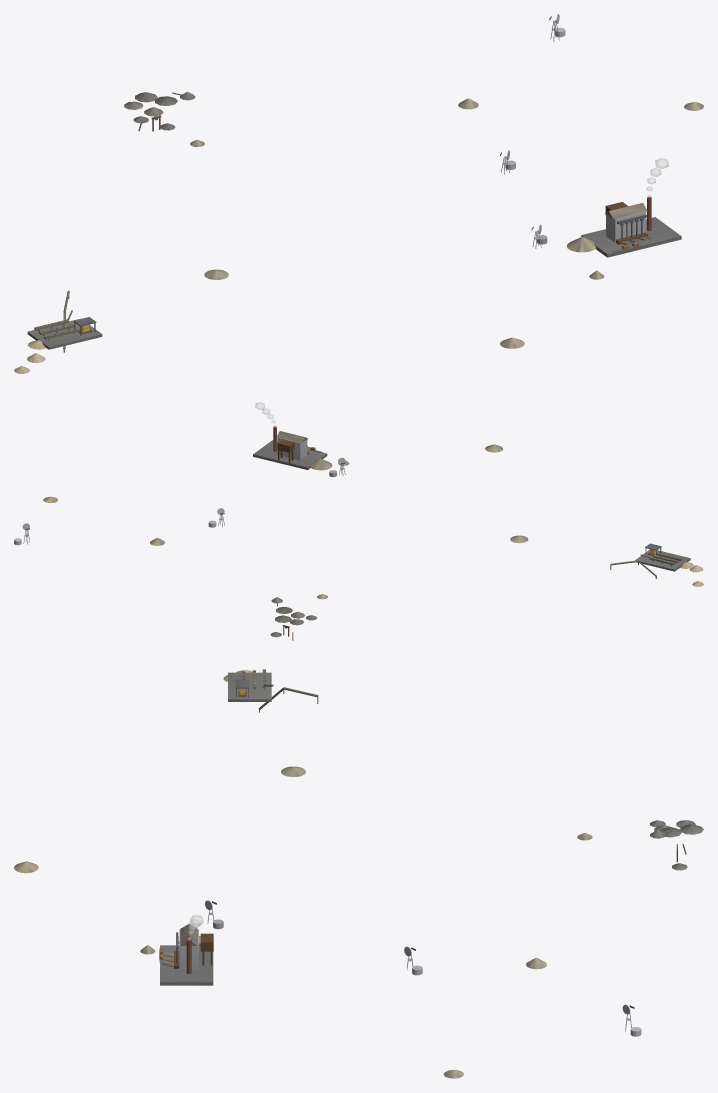
Rendered from Theme_P2.fbx.
3 views of the same model, one above another, from view 1: azimuth 30°, elevation 25°; view 2: azimuth 150°, elevation 25°; view 3: azimuth 270°, elevation 25° (orthographic). The views are drawn at different scales.
Visible parts, largest first — view 1: Theme.StampMill, Theme.Sluices, Theme.Diggings; view 2: Theme.StampMill, Theme.Sluices, Theme.Diggings; view 3: Theme.StampMill, Theme.Sluices, Theme.Diggings.
Boxes of the visible parts, x1,y1,x2,y2 form: Theme.StampMill: [581, 196, 681, 257]; Theme.Sluices: [27, 310, 102, 349]; Theme.Diggings: [124, 91, 195, 131]; Theme.StampMill: [253, 426, 327, 469]; Theme.Sluices: [635, 549, 690, 571]; Theme.Diggings: [270, 597, 316, 640]; Theme.StampMill: [160, 923, 213, 985]; Theme.Sluices: [228, 669, 273, 701]; Theme.Diggings: [650, 820, 703, 870].
Size of the model in its own units: 38345 by 3683 by 28414.
